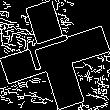L_E: (26, 32, 84, 78)
